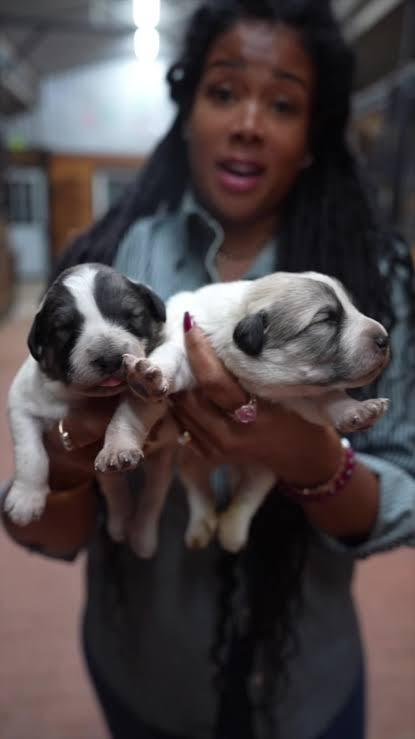non-dog: (1, 0, 415, 739)
puppy-dog: (124, 270, 391, 555), (2, 260, 190, 558)
